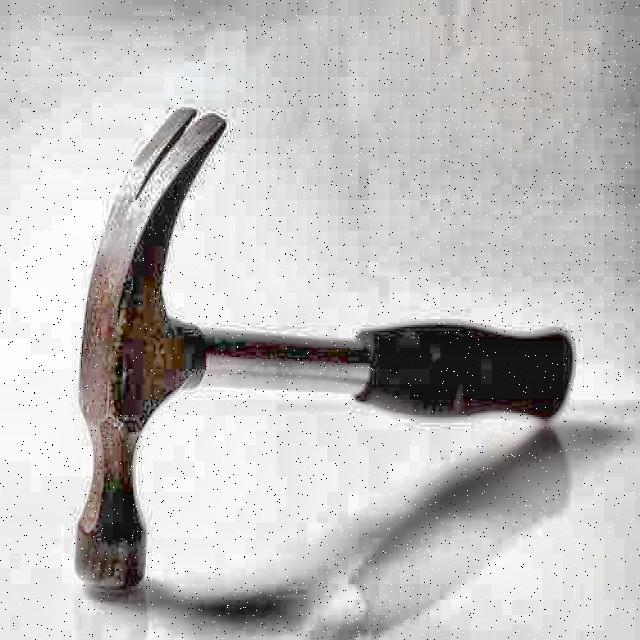hammer: (70, 102, 574, 591)
